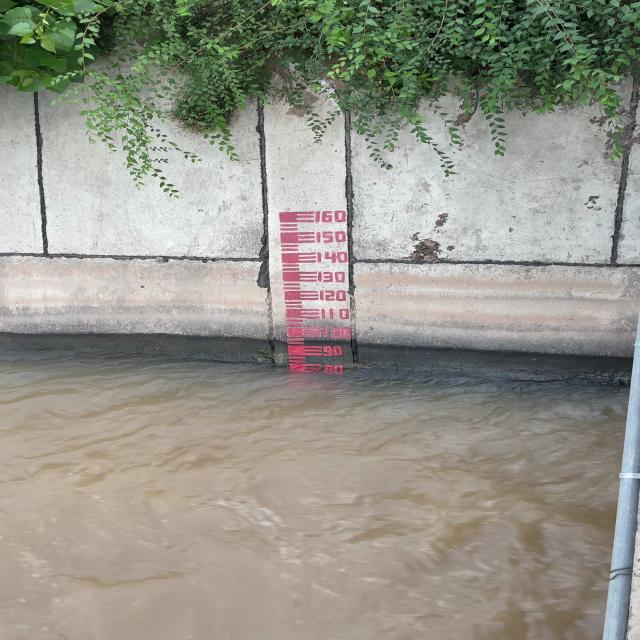ruler: (274, 207, 360, 373)
value: (313, 231, 352, 247), (313, 208, 352, 224), (318, 325, 355, 340), (316, 308, 354, 322), (314, 251, 354, 264), (315, 288, 351, 302), (317, 271, 352, 285), (322, 345, 347, 359)
